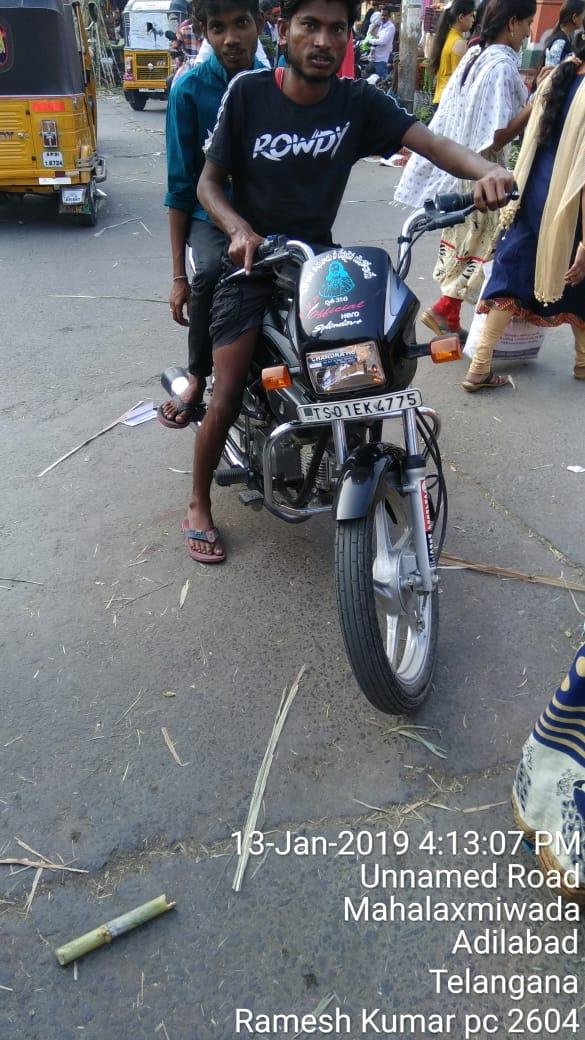plate: (290, 386, 431, 424)
